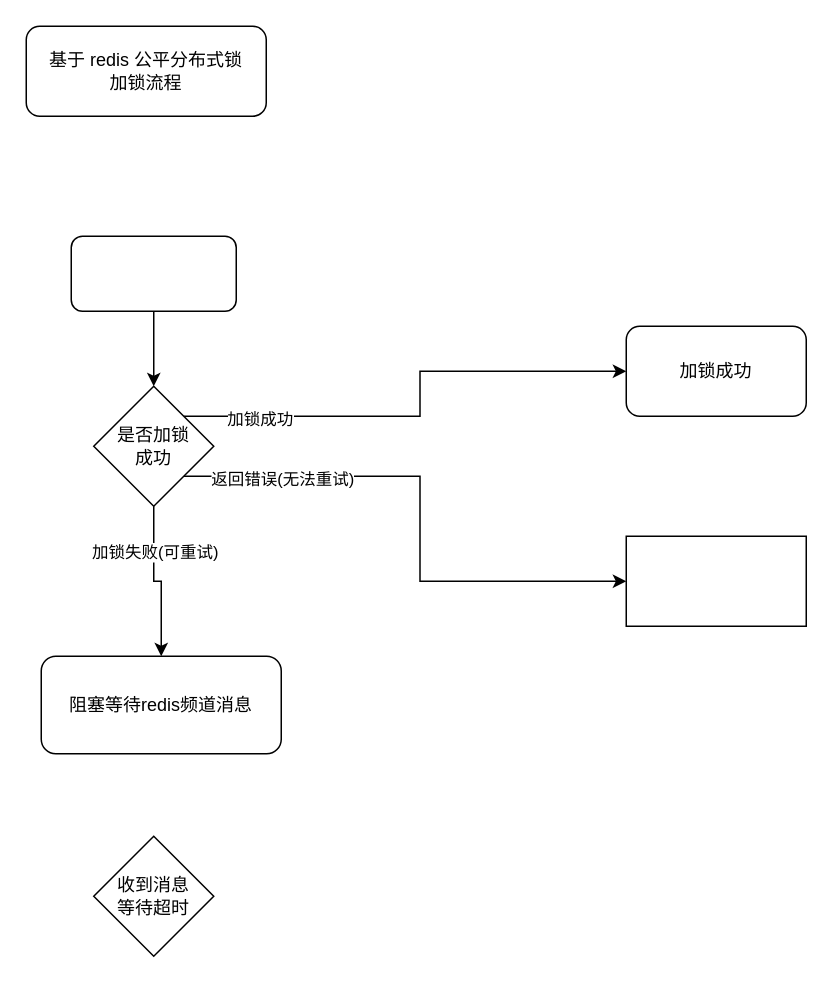
Image size: 833x983. Some labels were removed from this diagram. Each missing label, with the centre of its shape:
加锁: (153,273)
加锁失败: (715,580)
